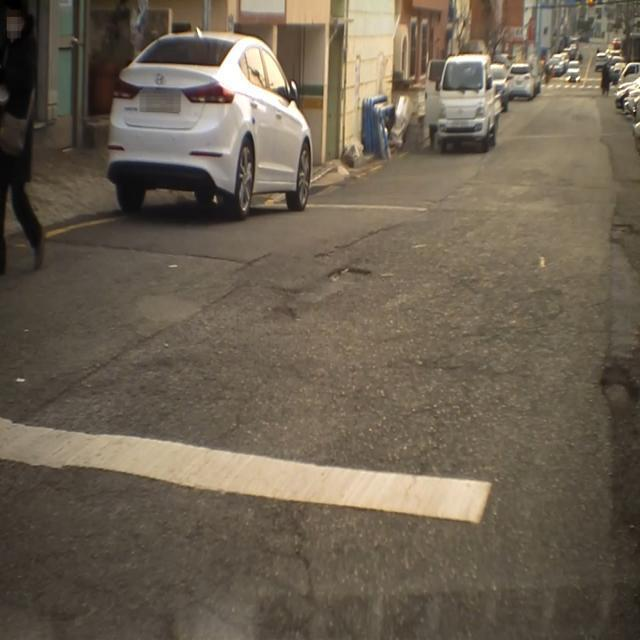pothole: (595, 354, 640, 410), (327, 262, 375, 292), (606, 214, 640, 255), (267, 296, 301, 332)
